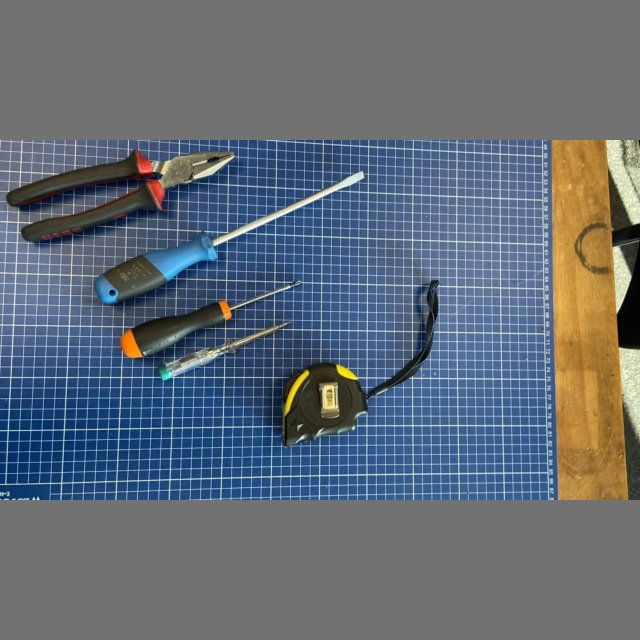screwdriver: (86, 163, 377, 315), (115, 272, 310, 366), (153, 316, 296, 387)
